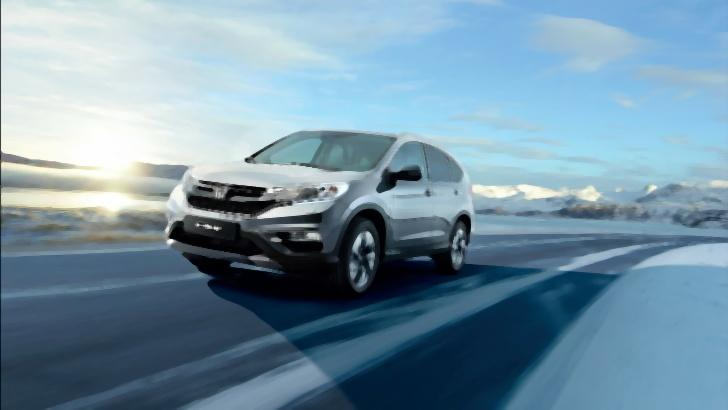Car hood: (190, 159, 362, 189)
Fender - -F-L-: (340, 169, 395, 264)
Fender - -R-L-: (452, 184, 475, 230)
Front bumper: (159, 197, 358, 279)
Headlight - -L-: (265, 177, 353, 209)
Headlight - -R-: (173, 161, 205, 199)
Passenger-s door - -F-L-: (391, 131, 433, 247)
Passenger-s door - -R-L-: (432, 136, 461, 244)
Rear bumper: (468, 213, 480, 253)
Side bumper - -L-: (383, 239, 454, 265)
Side mirror - -L-: (385, 156, 425, 192)
